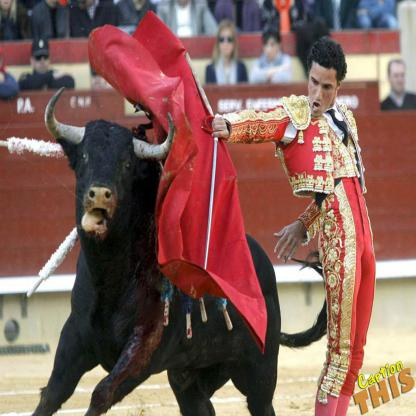face: (309, 61, 338, 118), (391, 63, 406, 94), (219, 28, 235, 57), (91, 67, 107, 91), (264, 38, 279, 60), (34, 52, 48, 75)
